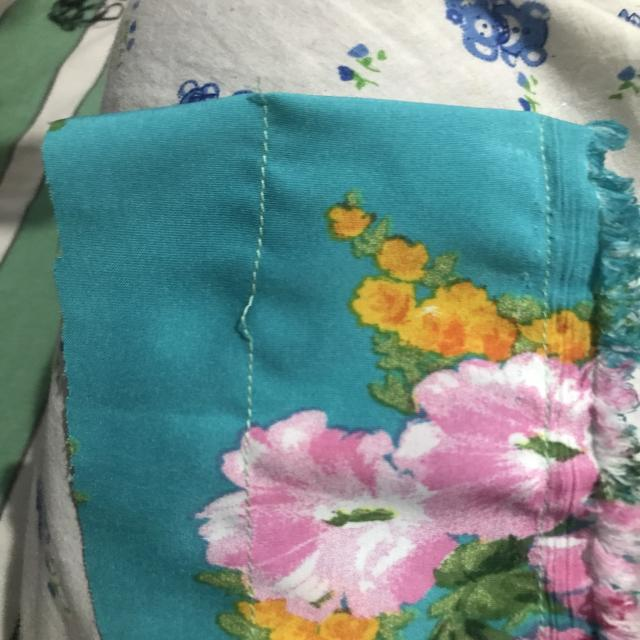good: (252, 142, 287, 256)
skip: (224, 283, 284, 360)
